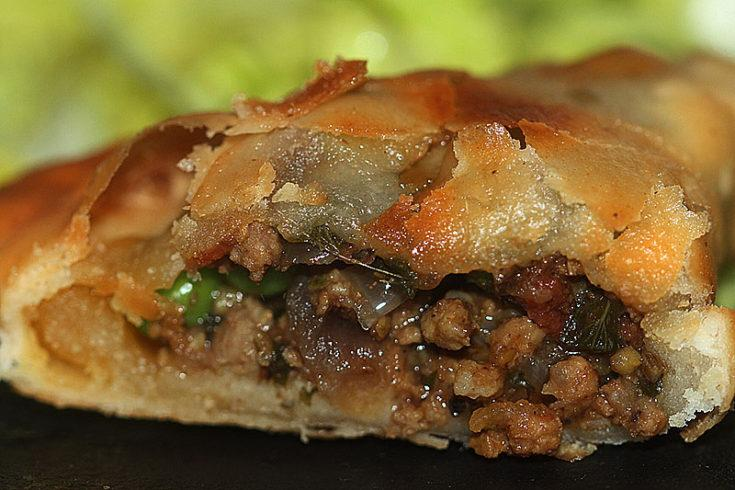chapati: (0, 49, 735, 459)
